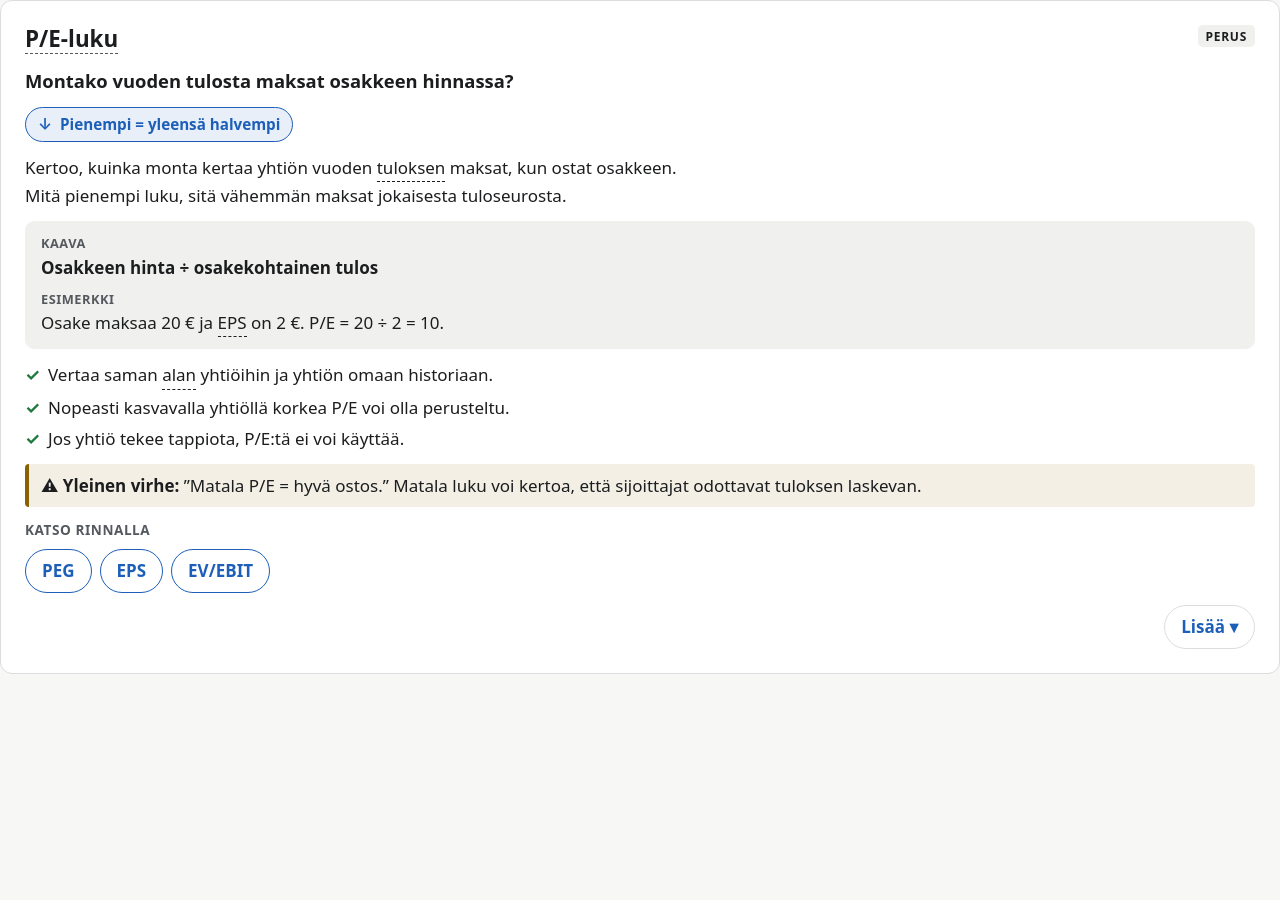
Test: GlossaryTerm › aukeaa kohdistimella ja sulkeutuu, kun kohdistin siirtyy pois
The width and height of the screenshot is (1280, 900).
Hover over the button "tuloksen" at (411, 168), box [377, 154, 445, 182]
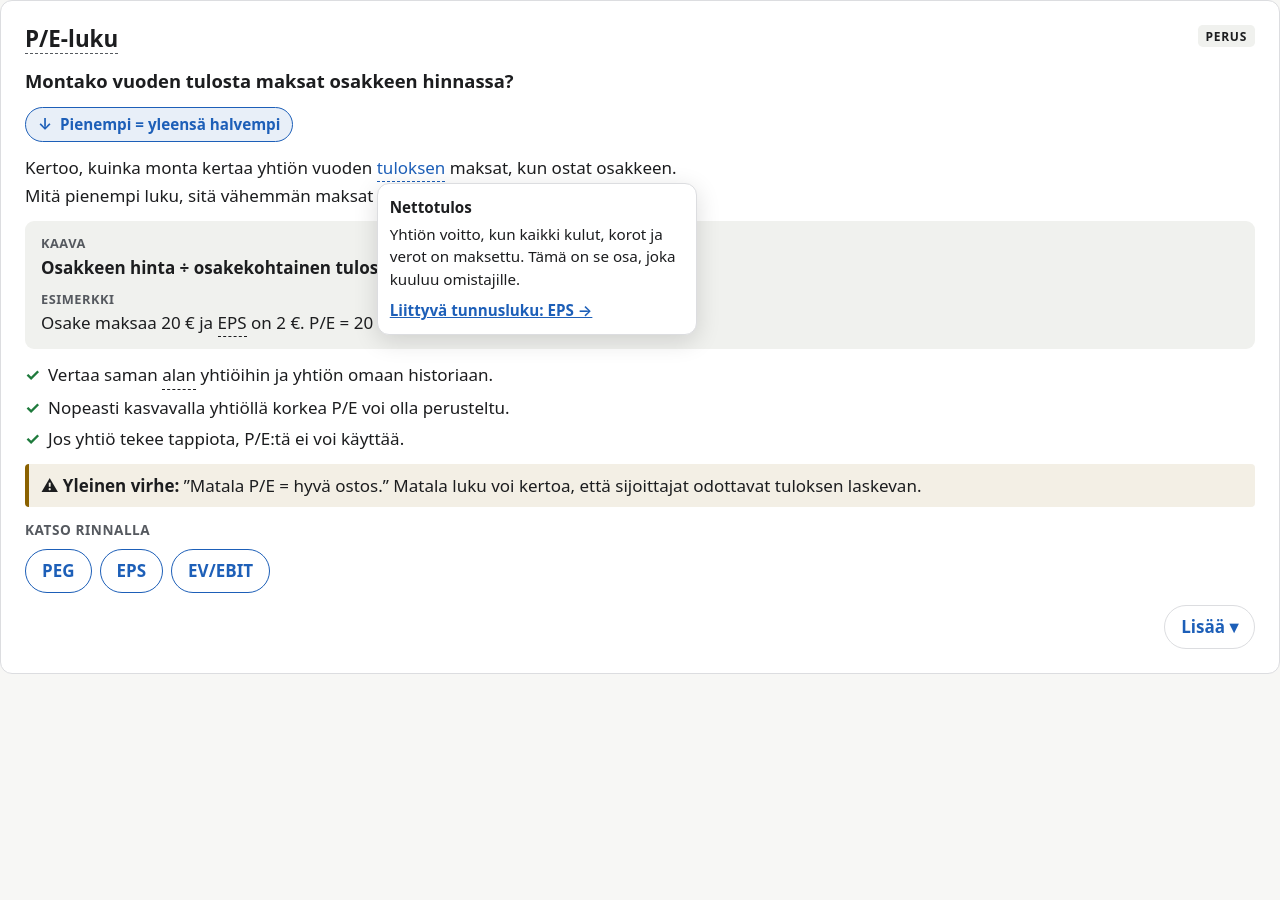
Result: the button "tuloksen" is expanded
Move the pointer off the button "tuloksen", box [377, 154, 445, 182]
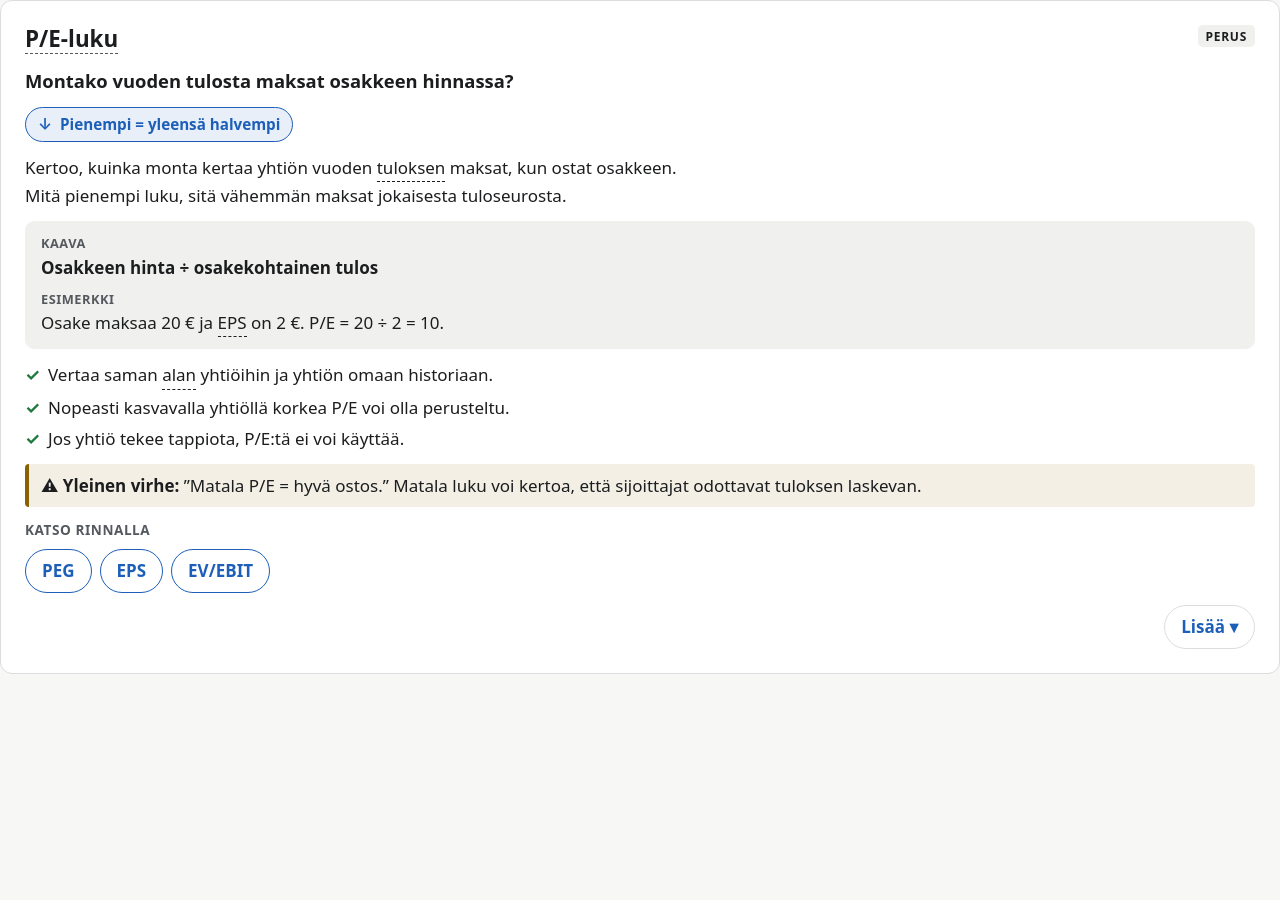
Result: the button "tuloksen" is collapsed at [377, 154, 445, 182]
